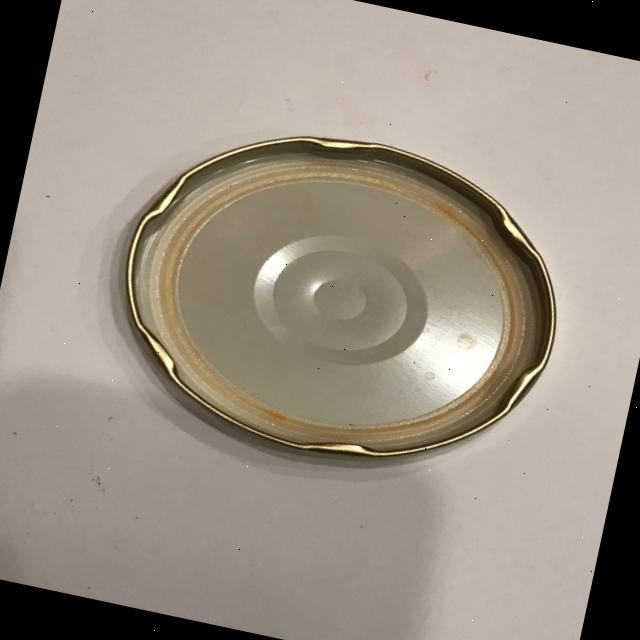metal: (94, 95, 587, 498)
